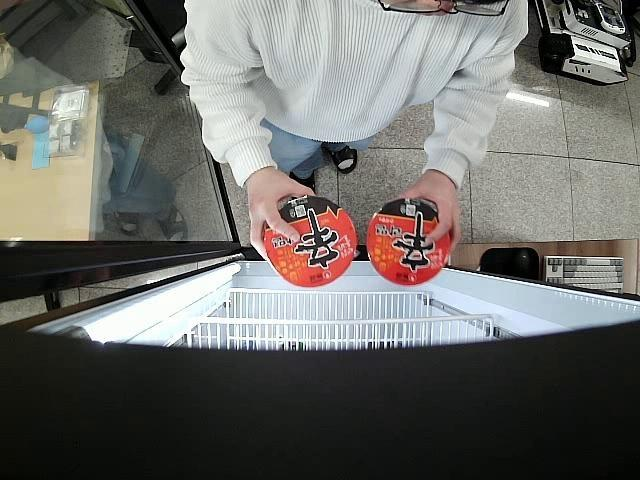01_ShinRamen_L: (264, 193, 356, 290), (366, 198, 450, 286)
